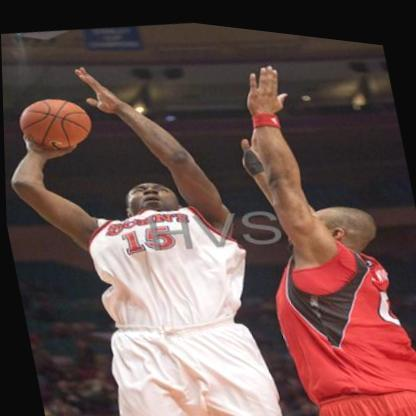basketball: (11, 88, 94, 158)
